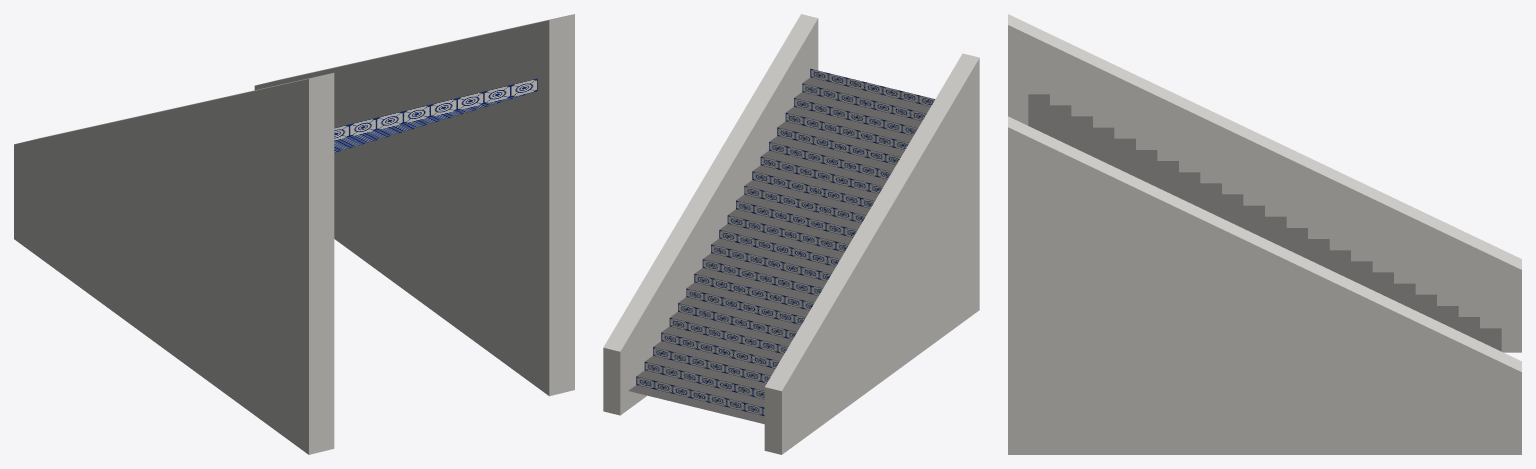
The model's file is stair.glb.
The picture shows the model from 3 angles, left to right: view 1: azimuth 30°, elevation 25°; view 2: azimuth 150°, elevation 25°; view 3: azimuth 270°, elevation 25°; orthographic projection. The views are drawn at different scales.
Visible parts, largest first — view 1: SG_Stair; view 2: SG_Stair; view 3: SG_Stair.
Part boxes in pixels (x1,y1,x2,y2): SG_Stair: [14, 14, 574, 454]; SG_Stair: [603, 14, 979, 454]; SG_Stair: [1008, 14, 1521, 454].
Bounding box in the file's own units: 3.96 × 5.35 × 7.6.
3 materials, 1 textured.
